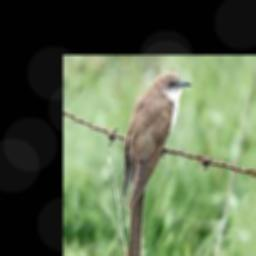Cuckoo: (122, 72, 193, 256)
